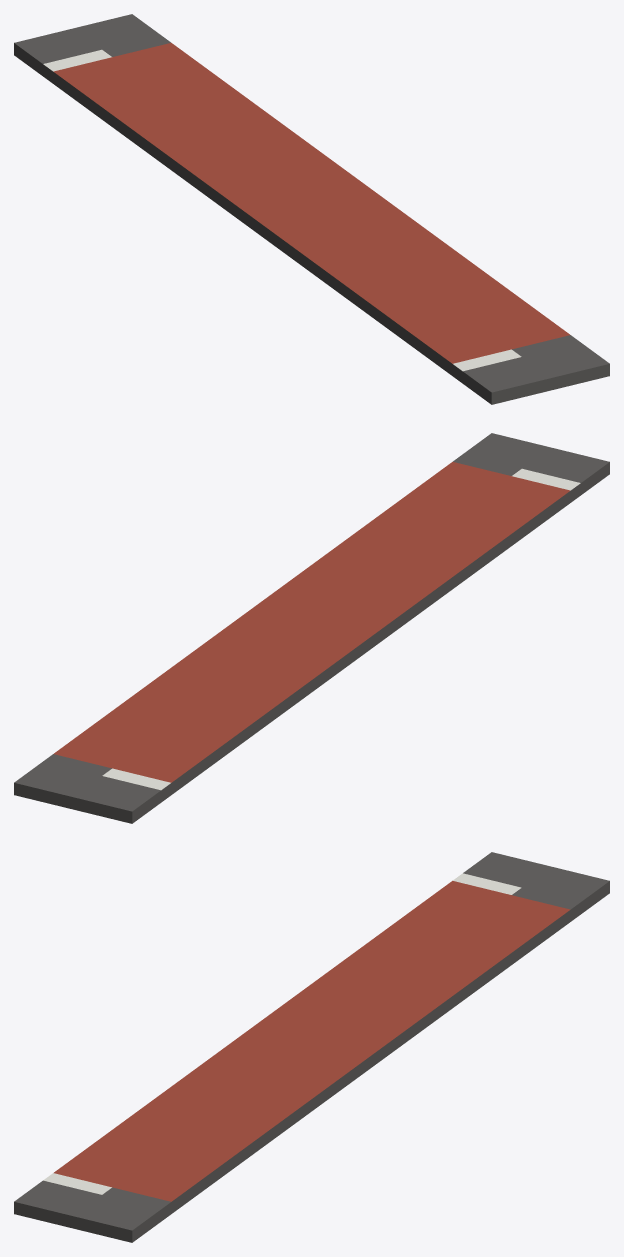
Rendered from SM_Ground_RoadJunction_700x100_01.fbx.
The picture shows the model from 3 angles, top to bottom: view 1: azimuth 30°, elevation 25°; view 2: azimuth 150°, elevation 25°; view 3: azimuth 330°, elevation 25°; orthographic projection.
Visible parts, largest first — view 1: SM_Ground_RoadJunction_700x100_01; view 2: SM_Ground_RoadJunction_700x100_01; view 3: SM_Ground_RoadJunction_700x100_01.
Boxes of the visible parts, box(x1,y1,x2,y2) form: SM_Ground_RoadJunction_700x100_01: box(14, 14, 609, 404); SM_Ground_RoadJunction_700x100_01: box(14, 433, 609, 823); SM_Ground_RoadJunction_700x100_01: box(14, 852, 609, 1242).
Bounding box in the file's own units: 1 × 0.1 × 7.
Materials: 1 (1 with a texture image).
